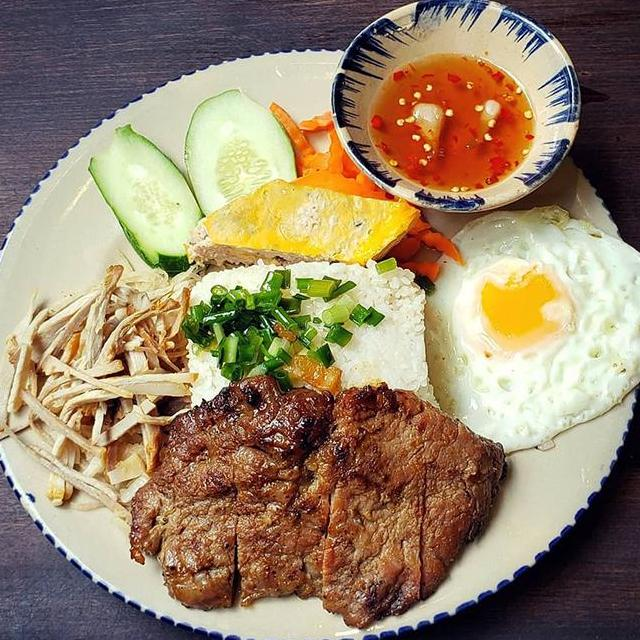com: (159, 255, 446, 424)
dua chua: (265, 98, 400, 208)
suon: (121, 372, 509, 633), (0, 248, 207, 526)
trung: (414, 199, 640, 461), (179, 174, 420, 273)
